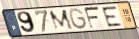7: (34, 10, 49, 33)
9: (17, 10, 37, 35)
E: (100, 5, 124, 28)
F: (83, 5, 101, 30)
G: (68, 7, 89, 31)
M: (48, 8, 75, 32)
